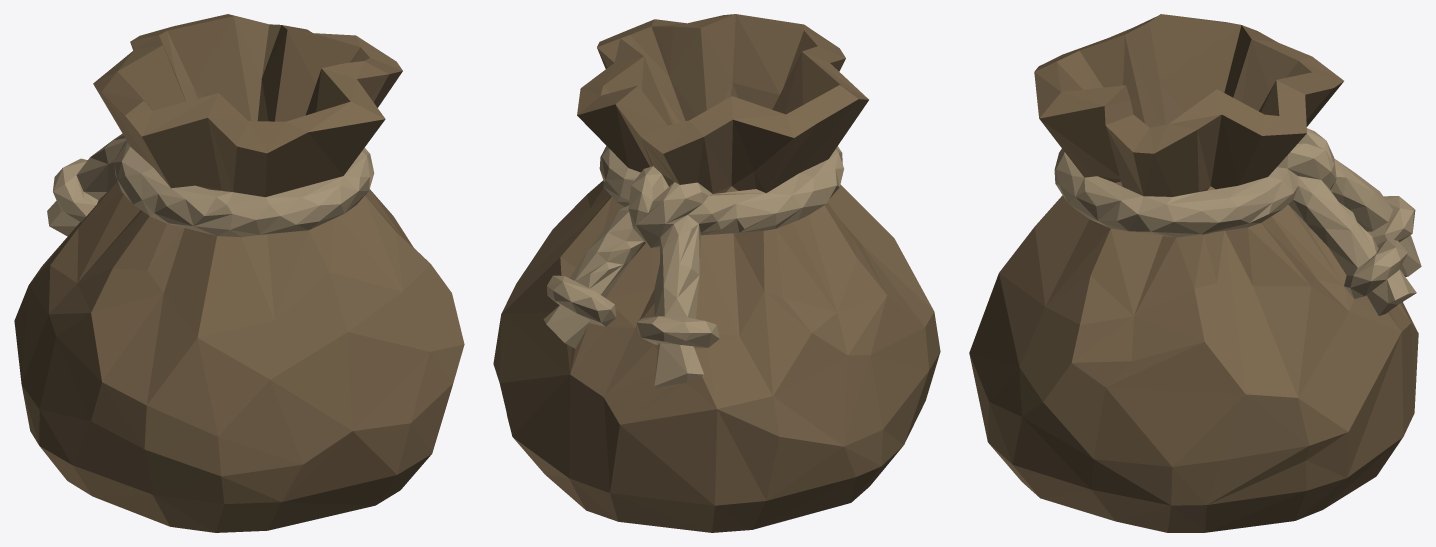
Rendered from LeatherPouch_3.fbx.
3 views of the same model, side by side, from view 1: azimuth 30°, elevation 25°; view 2: azimuth 150°, elevation 25°; view 3: azimuth 270°, elevation 25° (orthographic). The views are drawn at different scales.
Visible parts, largest first — view 1: LeatherPouch_3; view 2: LeatherPouch_3; view 3: LeatherPouch_3.
Boxes of the visible parts, x1=… form: LeatherPouch_3: x1=14, y1=14, x2=464, y2=532; LeatherPouch_3: x1=493, y1=14, x2=940, y2=532; LeatherPouch_3: x1=969, y1=14, x2=1421, y2=532.
Bounding box in the file's own units: 0.1656 × 0.175 × 0.1699.
